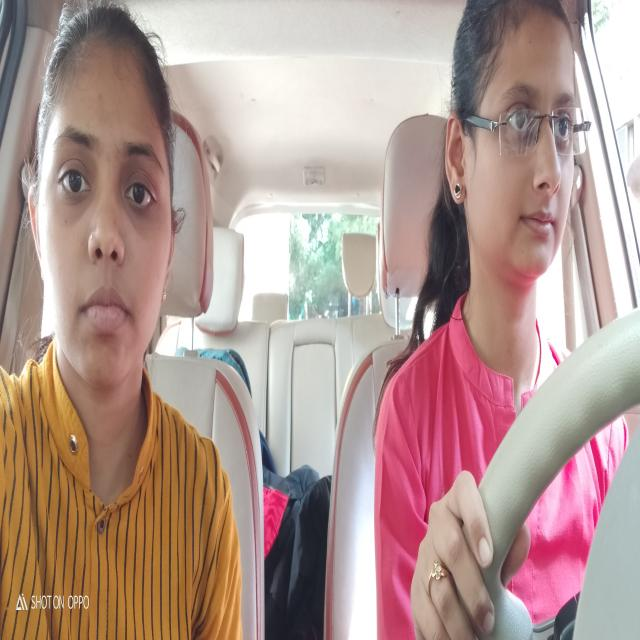person: (23, 0, 183, 391), (447, 0, 592, 330)
